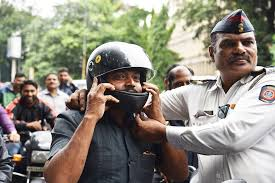helmet: (84, 35, 164, 124)
